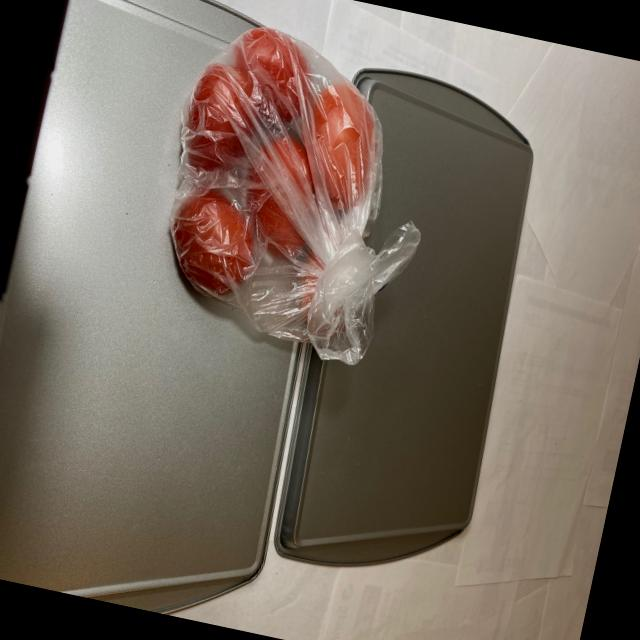tomato: (144, 9, 410, 356)
